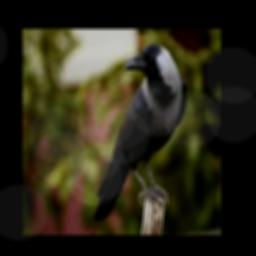Crow: (93, 43, 186, 221)
